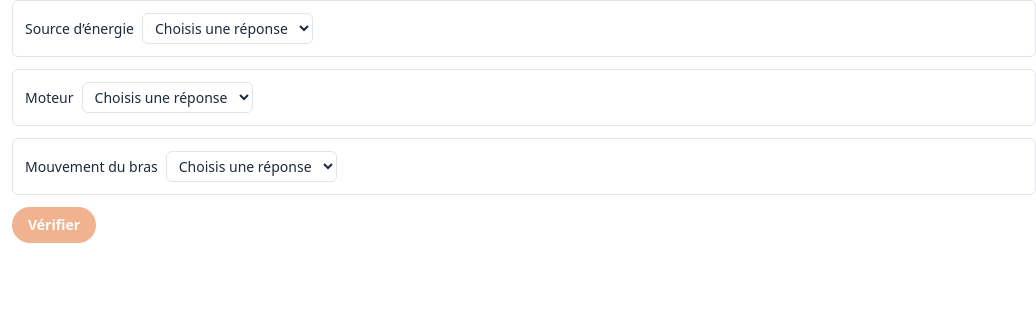
Test: SequencingActivity (5E-06) › signale un ordre partiellement correct
Select "2" in the dropdown labelled "Source d’énergie" at (228, 28), box x1=142 y1=13 x2=313 y2=44
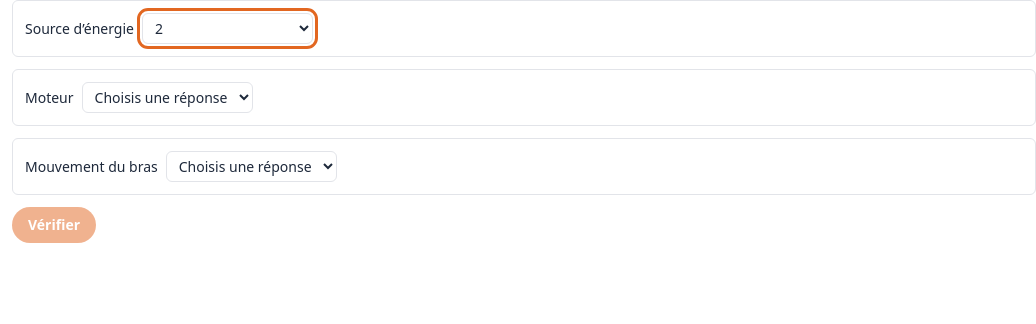
Select "1" in the dropdown labelled "Moteur" at (167, 98), box x1=82 y1=82 x2=253 y2=113
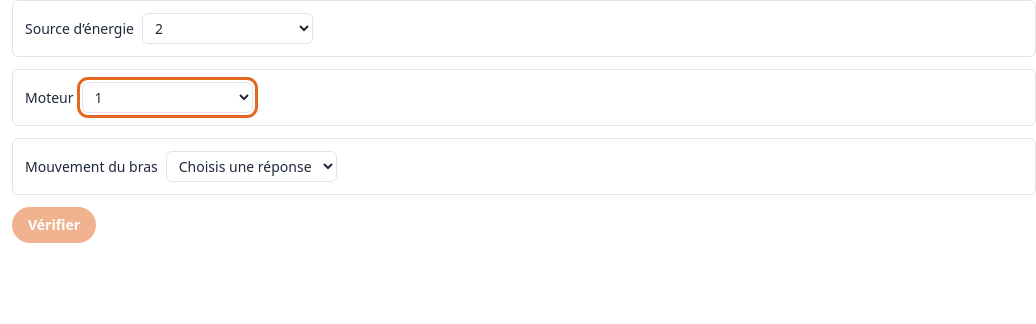
Select "3" in the dropdown labelled "Mouvement du bras" at (251, 166), box x1=166 y1=151 x2=337 y2=182
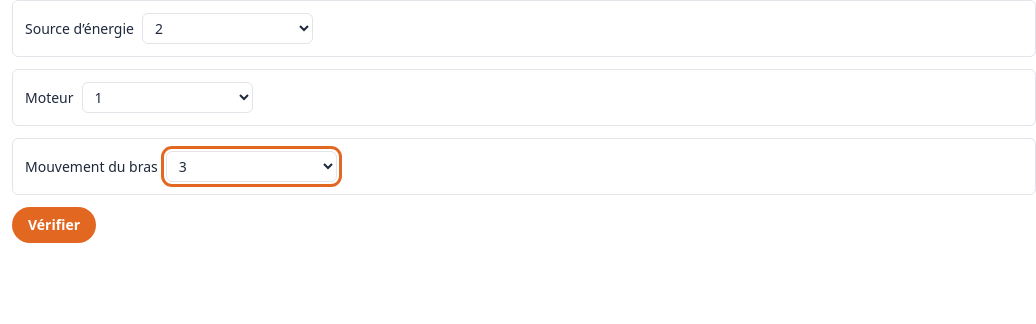
Click the button "Vérifier".
click(54, 225)  # box x1=12 y1=207 x2=96 y2=243
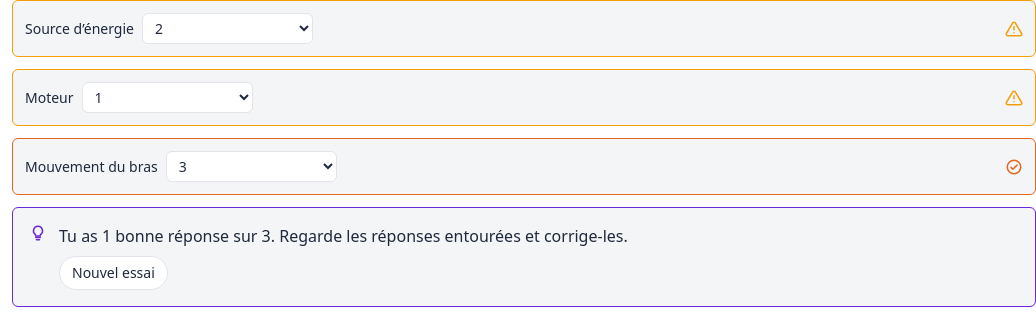
Now the text "Tu as 1 bonne réponse sur 3. Regarde les réponses entourées et corrige-les." is shown, box x1=59 y1=225 x2=628 y2=247
